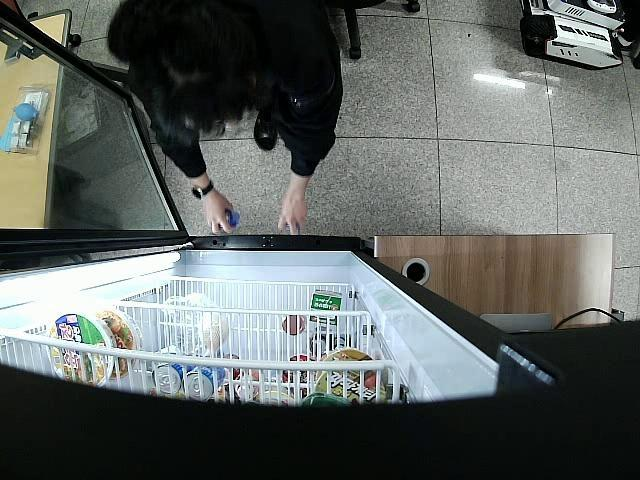13_pocariSweat: (218, 206, 240, 234)
